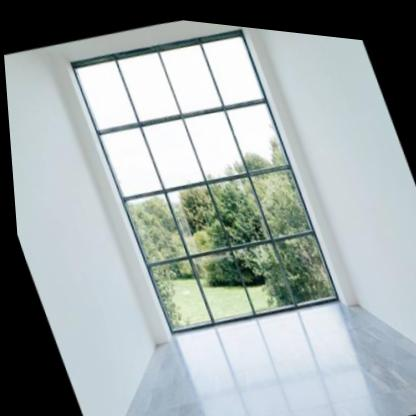Window: (61, 5, 343, 350)
